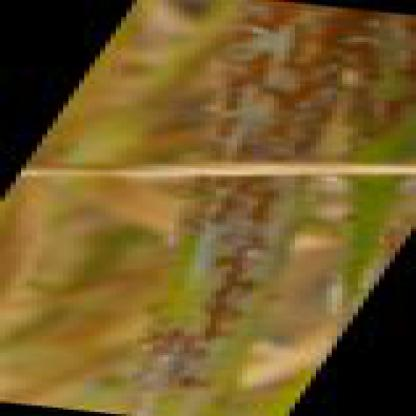wheat Stem Rust: (202, 12, 403, 158), (162, 179, 271, 393)
